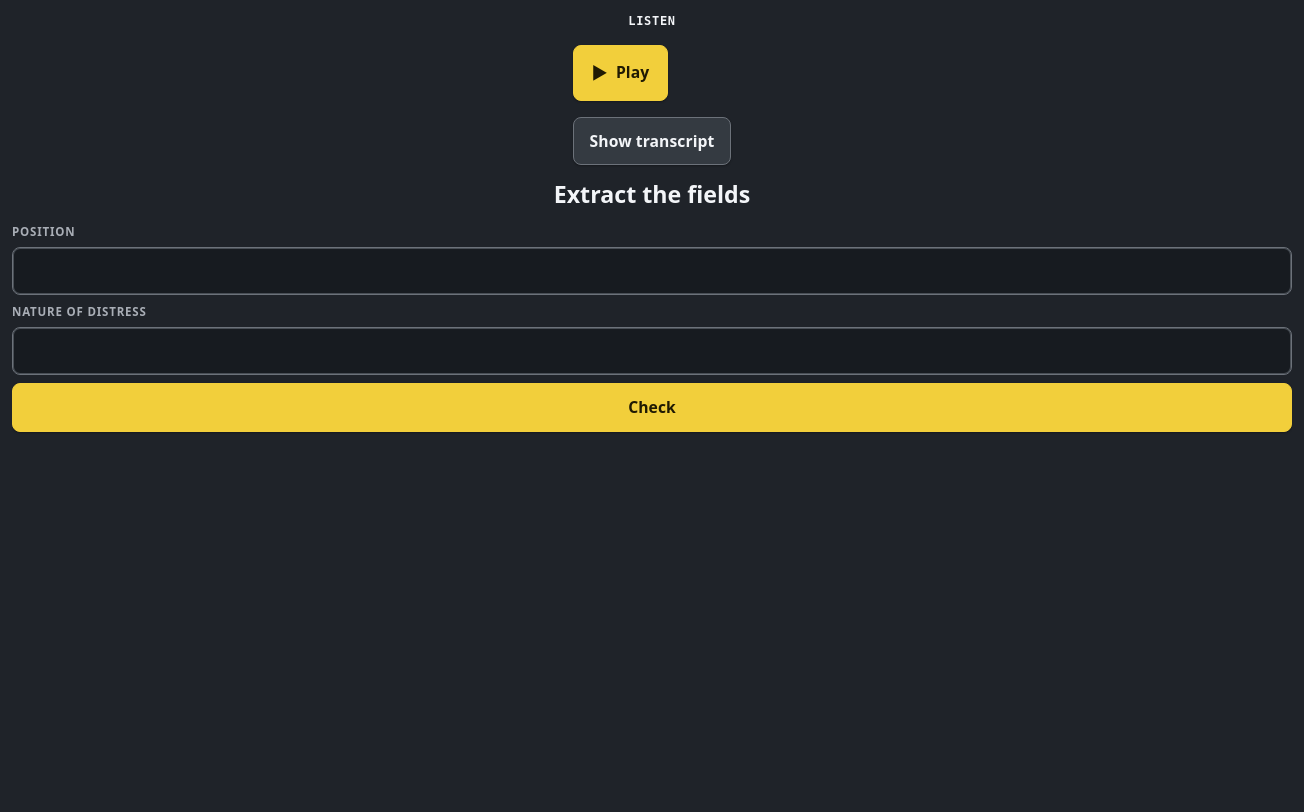
Scenario: a listening card › names the wrong field in a fields miss
In the field labelled "Position": (652,271) [12,247,1292,295], type "North of Cape Sable"
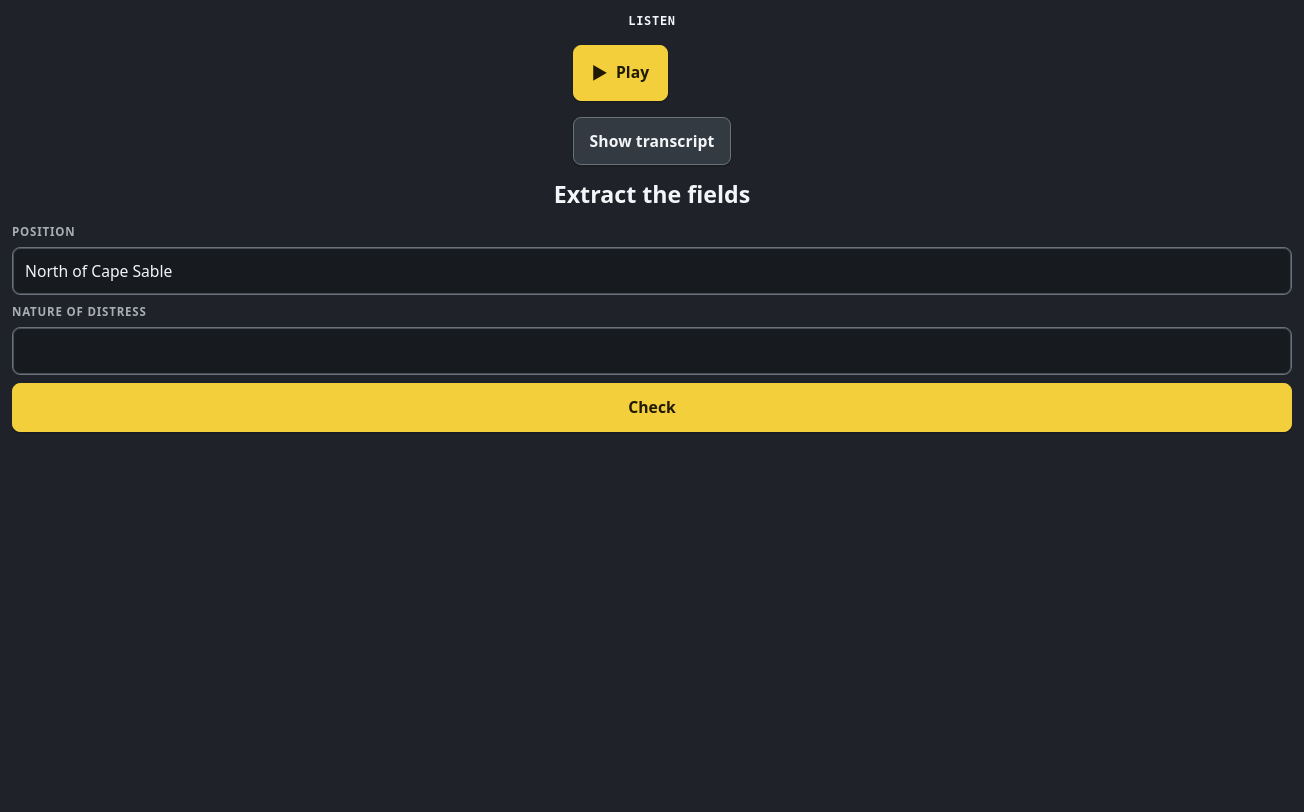
In the field labelled "Nature of distress": (652,351) [12,327,1292,375], type "fire"
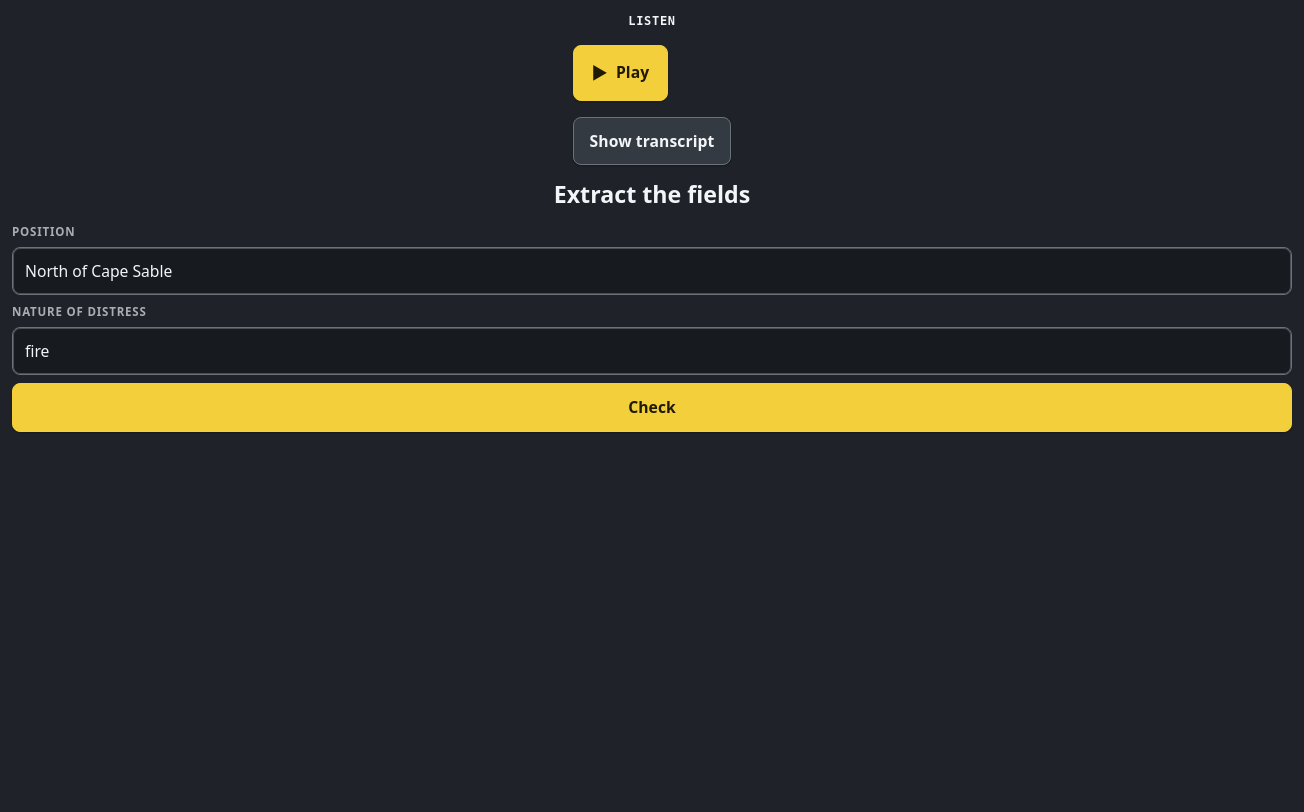
Click the button "Check": (652,407) [12,383,1292,432]
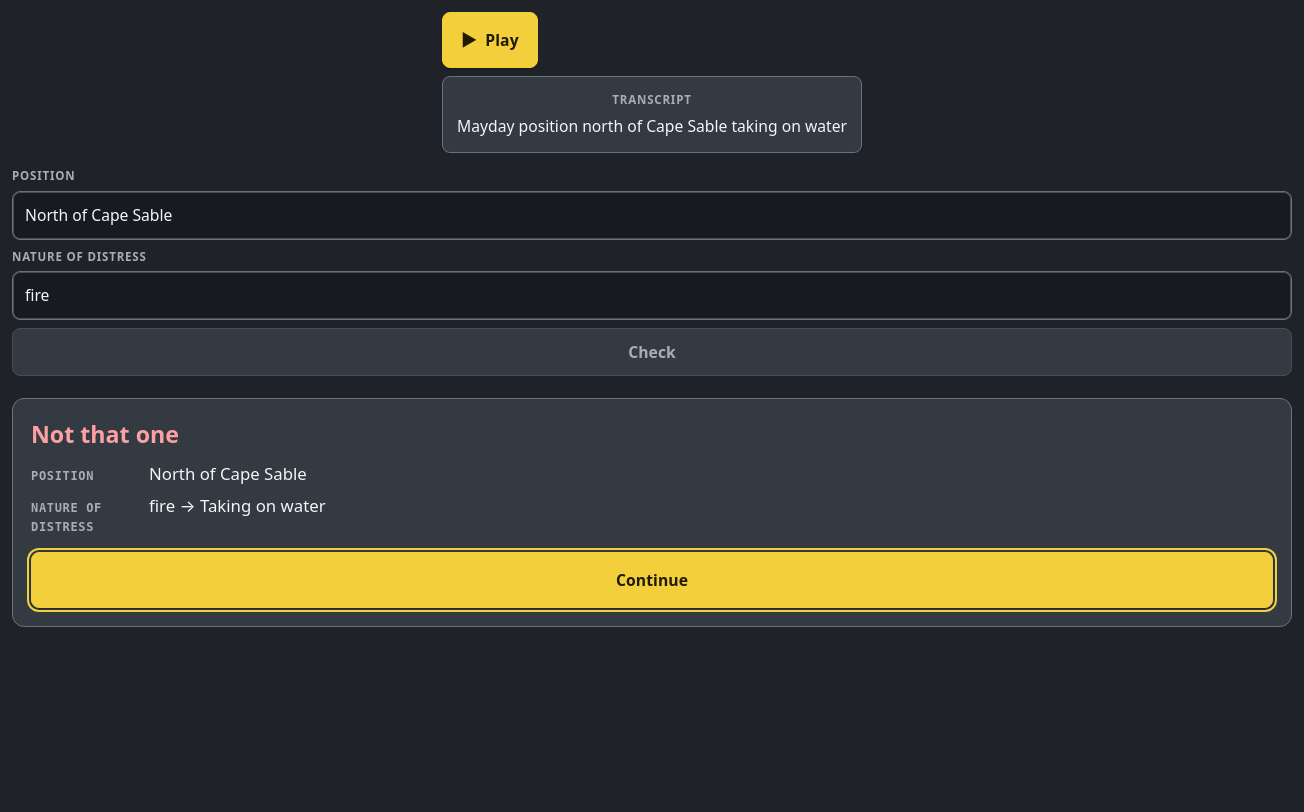
Check: the text "Not that one" is shown, box [31,418,179,450]
Check: the element with class "test-correction-row" shows "Position", box [31,469,94,483]
Check: the element with class "test-correction-row" shows "North of Cape Sable", box [149,462,307,485]
